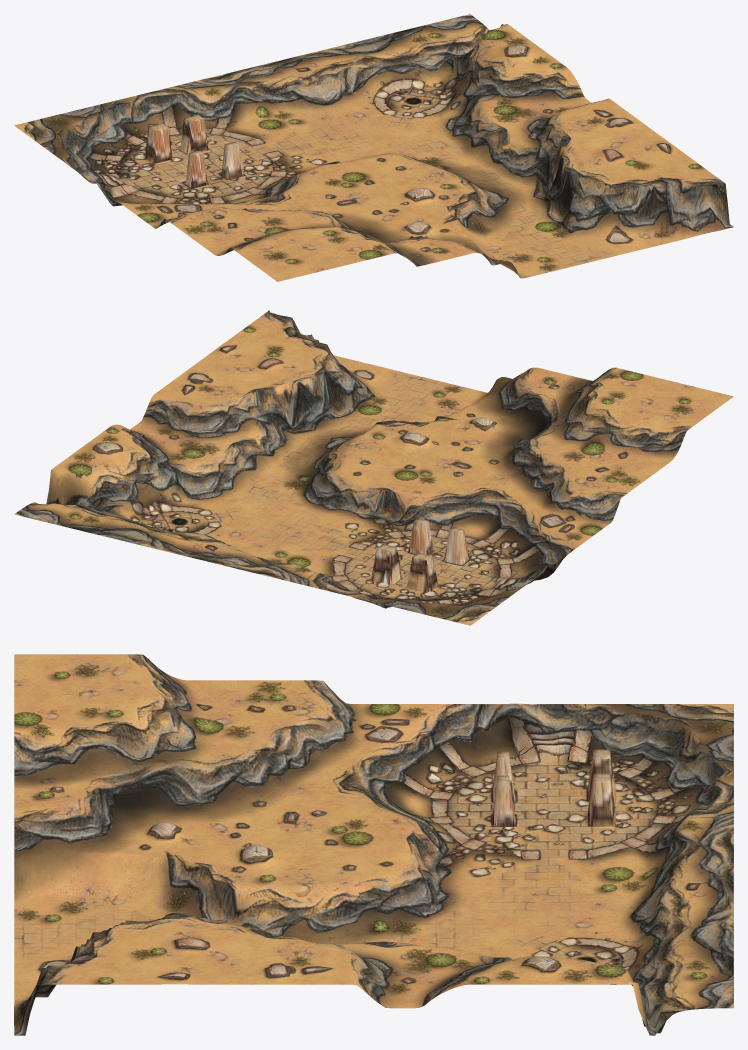
Rendered from Map-RuinedShrineDesertCanyon.fbx.
3 views of the same model, one above another, from view 1: azimuth 30°, elevation 25°; view 2: azimuth 150°, elevation 25°; view 3: azimuth 270°, elevation 25° (orthographic). The views are drawn at different scales.
Visible parts, largest first — view 1: Plane; view 2: Plane; view 3: Plane.
Boxes of the visible parts, x1,y1,x2,y2 form: Plane: (14,14,733,281); Plane: (14,310,733,625); Plane: (14,654,733,1035).
Bounding box in the file's own units: 1994 × 236 × 1994.
1 material, 1 textured.
